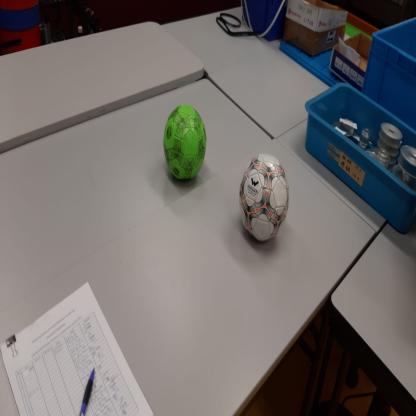ball: (238, 154, 289, 245), (165, 104, 206, 183)
